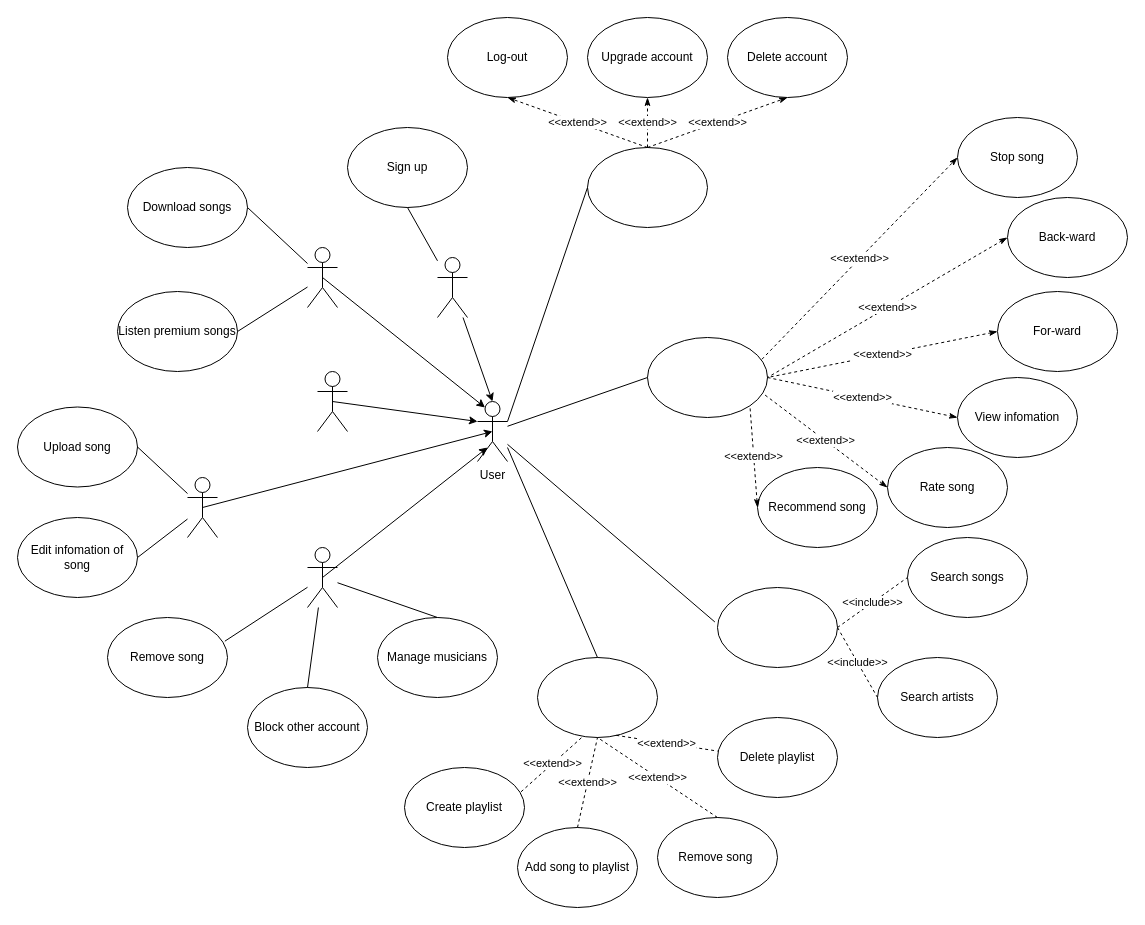
Some shapes in this 1145 by 925 pixel diagram are drawn without their labels. The shapes that lost their labels are listed below. From the top down, each one's centre as x and y in pixels, then its label:
At point (647, 187): "Log-in".
At point (322, 277): "Vip User".
At point (452, 287): "Guest".
At point (707, 377): "Play music".
At point (332, 401): "Common User".
At point (202, 507): "Artist".
At point (322, 577): "Admin".
At point (777, 627): "Search".
At point (597, 697): "Playlist".
